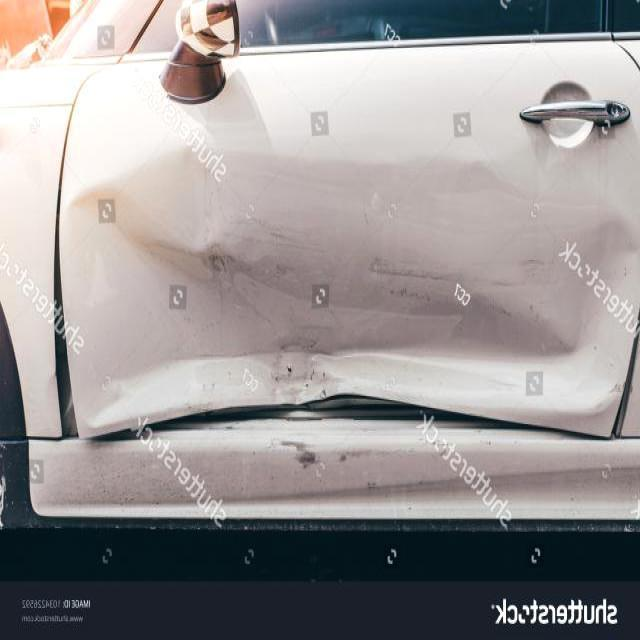minor: (57, 73, 636, 441), (266, 442, 330, 477), (339, 450, 381, 465)
